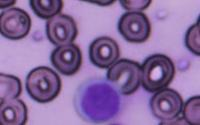L: (73, 77, 134, 124)
